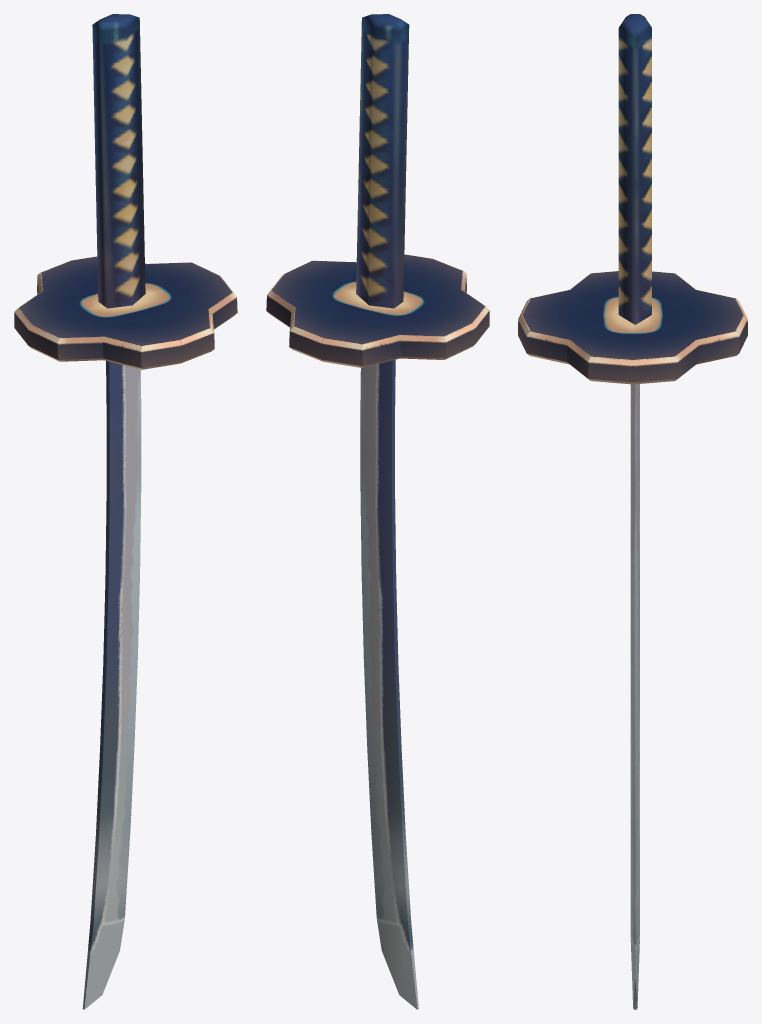
3 views of the same model, side by side, from view 1: azimuth 30°, elevation 25°; view 2: azimuth 150°, elevation 25°; view 3: azimuth 270°, elevation 25° (orthographic). The views are drawn at different scales.
Visible parts, largest first — view 1: A_3D5; view 2: A_3D5; view 3: A_3D5.
Boxes of the visible parts, x1,y1,x2,y2 form: A_3D5: (14, 14, 237, 1009); A_3D5: (266, 14, 489, 1009); A_3D5: (518, 14, 747, 1009).
Size of the model in its own units: 22.1 by 107 by 22.08.
